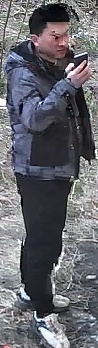phone: (2, 7, 89, 131)
